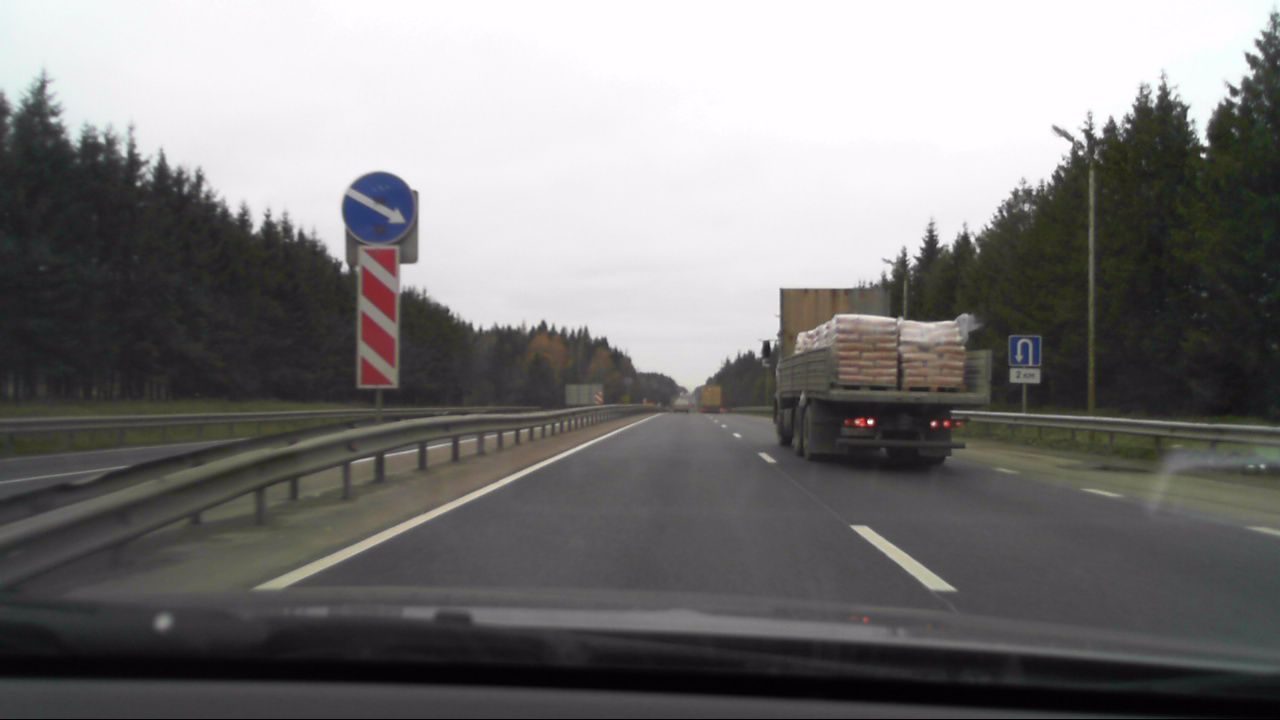U-turn: (1011, 337, 1040, 365)
